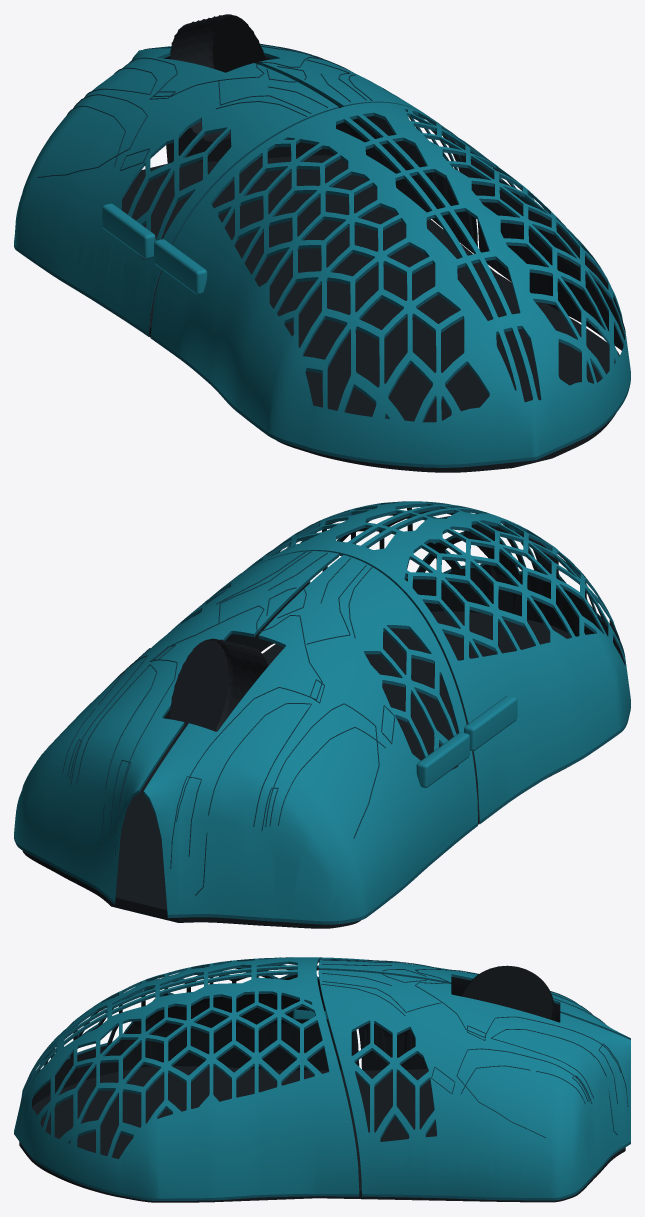
File: Mouse_Clean.fbx
3 renders of one model, top to bottom at view 1: azimuth 30°, elevation 25°; view 2: azimuth 150°, elevation 25°; view 3: azimuth 270°, elevation 25°, orthographic. The views are drawn at different scales.
Parts seen in each view (by area): view 1: Continuous curved blue shell, Low enclosed underside, Single rubber scroll wheel, Left thumb button.001, Left thumb button; view 2: Continuous curved blue shell, Low enclosed underside, Single rubber scroll wheel, Left thumb button.001, Left thumb button; view 3: Continuous curved blue shell, Low enclosed underside, Single rubber scroll wheel, Dragonfly engraving 1 0, Dragonfly engraving 1 3, Dragonfly engraving 1 1.
Boxes of the visible parts, x1,y1,x2,y2 form: Continuous curved blue shell: (14, 44, 630, 467); Low enclosed underside: (122, 155, 619, 472); Single rubber scroll wheel: (170, 14, 265, 141); Left thumb button.001: (102, 203, 155, 258); Left thumb button: (154, 239, 207, 294); Continuous curved blue shell: (14, 501, 630, 924); Low enclosed underside: (22, 611, 571, 928); Single rubber scroll wheel: (169, 638, 268, 743); Left thumb button.001: (416, 732, 469, 787); Left thumb button: (464, 695, 517, 751); Continuous curved blue shell: (14, 957, 630, 1200); Low enclosed underside: (19, 1066, 625, 1202); Single rubber scroll wheel: (461, 965, 555, 1020); Dragonfly engraving 1 0: (415, 982, 620, 1072); Dragonfly engraving 1 3: (490, 1029, 617, 1135); Dragonfly engraving 1 1: (456, 1048, 589, 1137).
Bounding box in the file's own units: 6.17 × 3.63 × 11.97.
